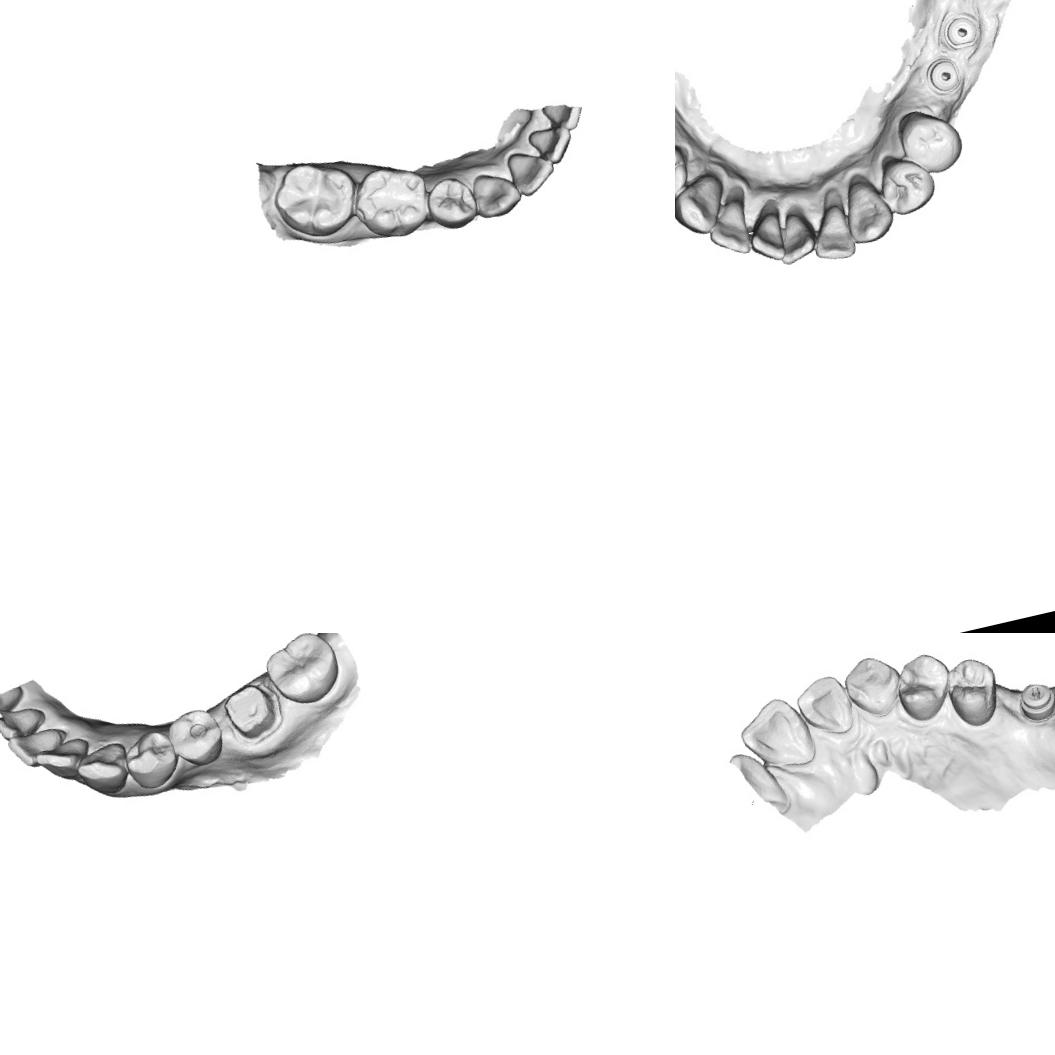canine: (836, 648, 907, 727), (838, 178, 896, 249), (675, 173, 730, 241), (72, 740, 134, 800), (466, 163, 526, 223)
crown: (218, 678, 283, 746)
implant: (939, 9, 984, 55), (924, 53, 964, 96)
implant_minus: (1014, 676, 1055, 726)
incisor: (732, 689, 820, 781), (789, 670, 857, 744), (700, 195, 756, 264), (805, 202, 858, 267), (32, 734, 96, 786), (504, 144, 562, 200), (771, 206, 820, 268), (5, 724, 67, 771), (744, 207, 790, 269), (526, 120, 580, 170), (0, 701, 48, 744), (542, 100, 587, 136), (0, 685, 28, 723)
molar: (265, 151, 366, 248), (346, 156, 436, 248), (258, 633, 345, 712)
premolar: (892, 105, 970, 181), (888, 648, 958, 728), (940, 652, 1006, 732), (873, 149, 940, 220), (163, 704, 229, 772), (120, 726, 182, 794), (421, 170, 482, 235), (675, 138, 695, 209)
